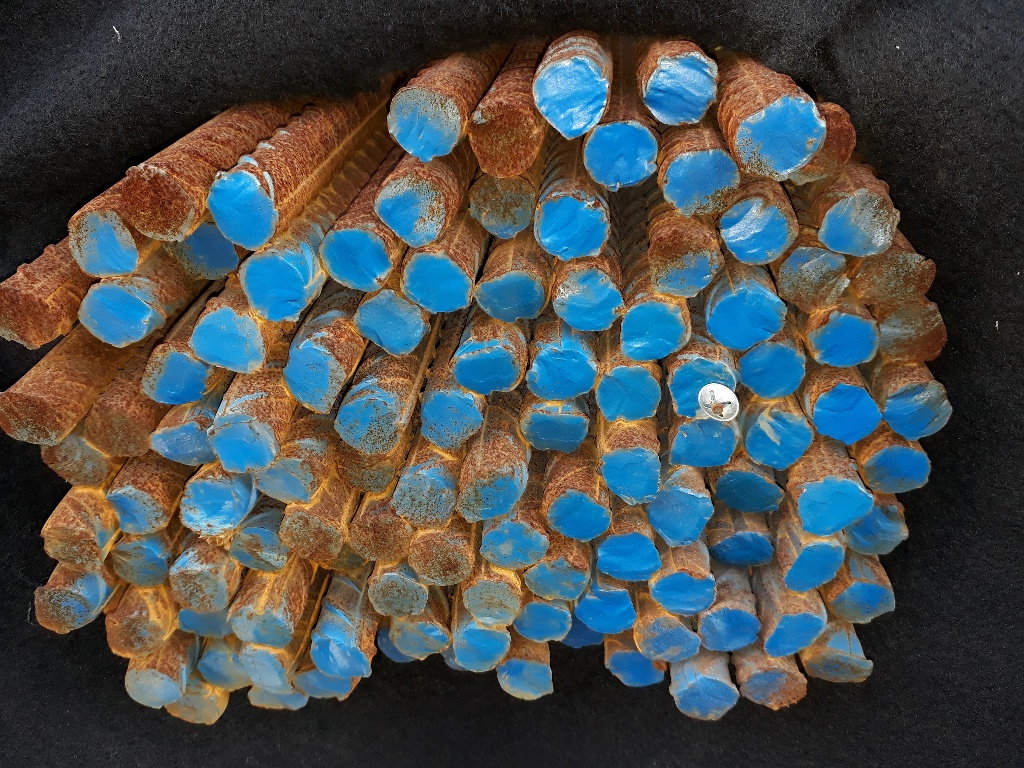dipstick: (735, 97, 824, 183), (120, 162, 205, 242), (534, 60, 608, 140), (387, 86, 462, 161), (643, 52, 719, 124), (819, 186, 897, 255), (207, 173, 276, 250), (706, 284, 786, 350), (536, 189, 610, 258), (793, 104, 856, 184), (375, 177, 446, 247), (582, 122, 657, 187), (471, 105, 537, 178), (719, 198, 789, 266), (355, 291, 426, 358), (319, 228, 392, 292), (67, 213, 140, 277), (809, 384, 884, 446), (848, 253, 936, 305), (647, 228, 715, 295), (239, 252, 307, 319), (666, 151, 739, 213), (75, 286, 151, 345), (779, 245, 849, 309), (553, 267, 623, 331), (168, 221, 241, 282), (876, 300, 948, 361), (797, 477, 874, 533), (399, 254, 474, 311), (467, 174, 533, 237), (885, 380, 952, 442), (745, 408, 814, 466), (806, 311, 877, 367), (206, 416, 277, 472), (180, 476, 243, 539), (737, 343, 807, 399), (670, 356, 734, 417), (83, 401, 150, 459), (419, 391, 484, 450), (40, 437, 112, 490), (804, 629, 873, 684), (471, 269, 543, 321), (1, 388, 63, 448), (526, 348, 596, 401), (620, 303, 686, 359), (408, 528, 474, 584), (1, 288, 56, 355), (333, 396, 397, 453), (860, 446, 934, 495), (849, 500, 909, 560), (545, 489, 614, 541), (597, 367, 661, 423), (141, 350, 207, 404), (651, 488, 710, 548), (391, 473, 454, 529), (669, 416, 738, 467), (603, 448, 662, 507), (454, 341, 519, 393), (636, 613, 702, 663), (348, 511, 411, 563), (517, 405, 588, 451), (277, 513, 342, 563), (695, 605, 763, 652), (147, 420, 212, 469), (478, 520, 547, 566), (649, 567, 717, 613), (785, 542, 844, 595), (42, 521, 103, 572), (598, 533, 660, 582), (713, 469, 785, 511), (456, 471, 518, 519), (833, 577, 896, 624), (308, 637, 375, 681), (674, 674, 738, 720), (524, 554, 588, 600), (337, 441, 393, 492), (741, 666, 807, 709), (765, 608, 824, 656), (169, 566, 229, 613), (121, 665, 186, 708), (238, 644, 291, 696), (369, 573, 430, 618), (105, 487, 163, 534), (574, 588, 633, 634), (494, 656, 554, 701), (454, 627, 512, 673), (463, 578, 519, 625), (31, 587, 87, 633), (511, 599, 573, 640), (161, 682, 220, 725), (110, 546, 167, 589), (711, 532, 775, 570), (230, 527, 286, 570), (393, 622, 450, 662), (105, 614, 156, 657), (173, 606, 237, 640), (229, 610, 293, 643), (256, 468, 311, 506), (293, 666, 353, 699), (197, 650, 249, 688), (608, 651, 665, 685), (248, 684, 309, 710), (558, 617, 605, 650), (376, 628, 414, 666)
